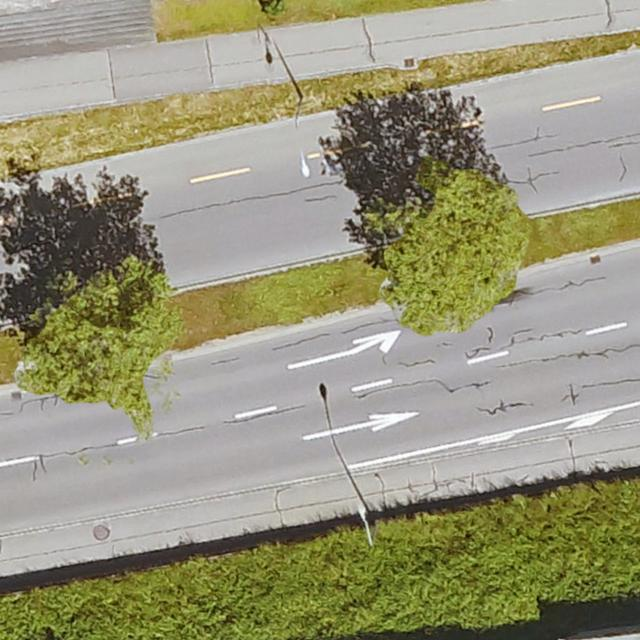tree: (17, 256, 179, 446), (358, 171, 529, 336)
